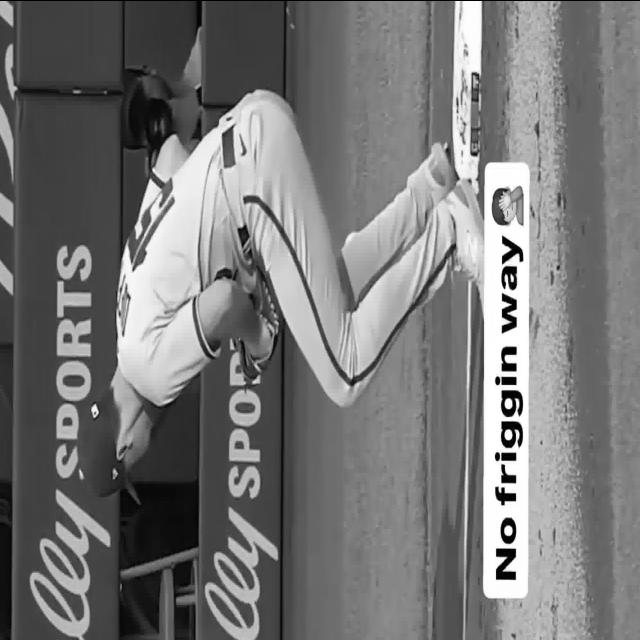base: (452, 0, 482, 191)
baseball_glove: (238, 264, 281, 384)
shoe: (445, 178, 484, 307), (420, 142, 458, 204)
